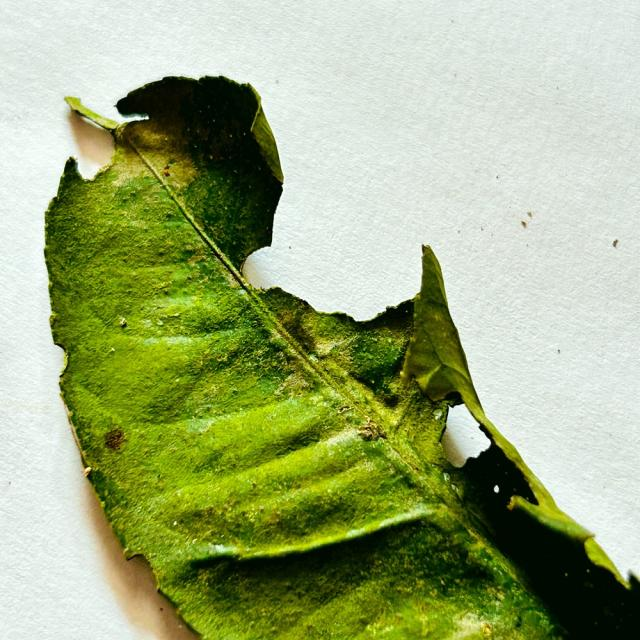Deficiency Leaf: (244, 105, 426, 319), (435, 401, 490, 467), (67, 111, 115, 179), (491, 481, 509, 506)
Lemon: (44, 77, 639, 639)
